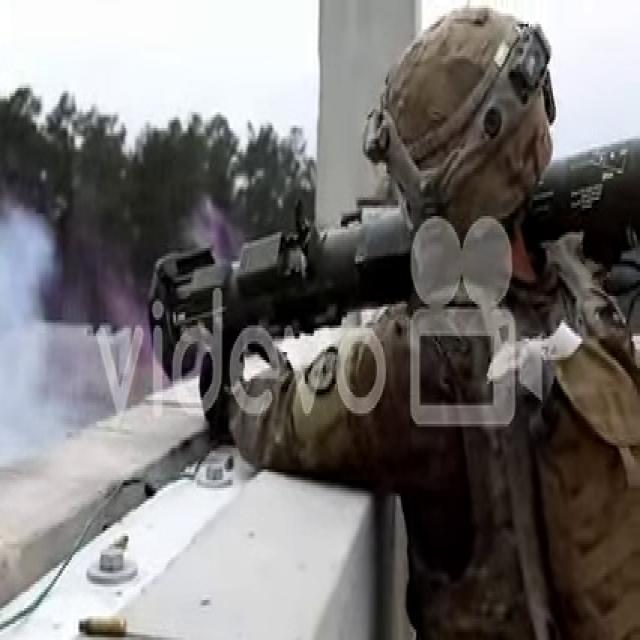bazooka: (149, 127, 640, 389)
